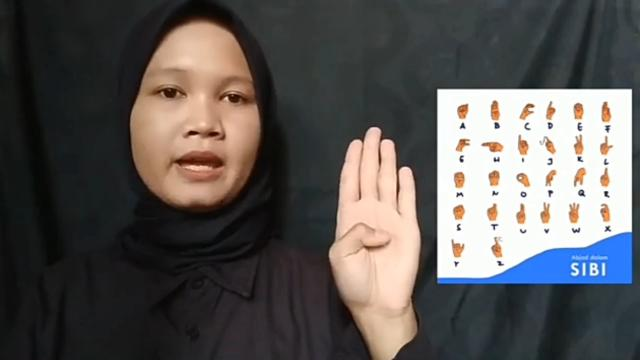B: (329, 126, 421, 310)
